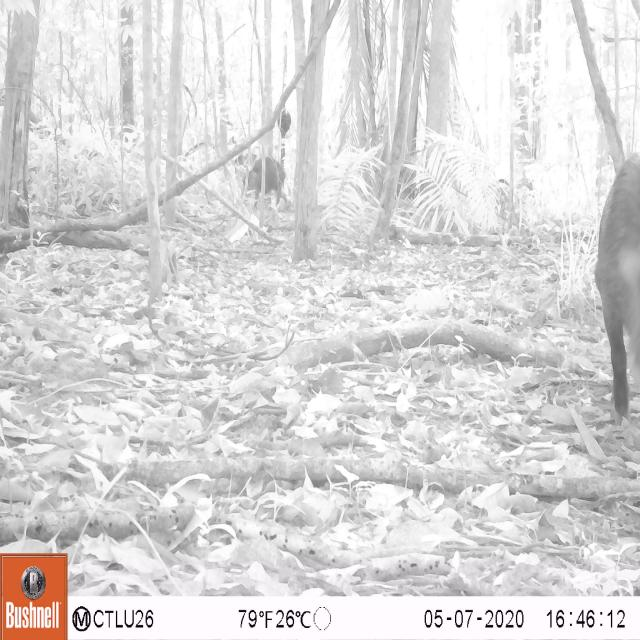White-lipped Peccary: (583, 145, 640, 426)
